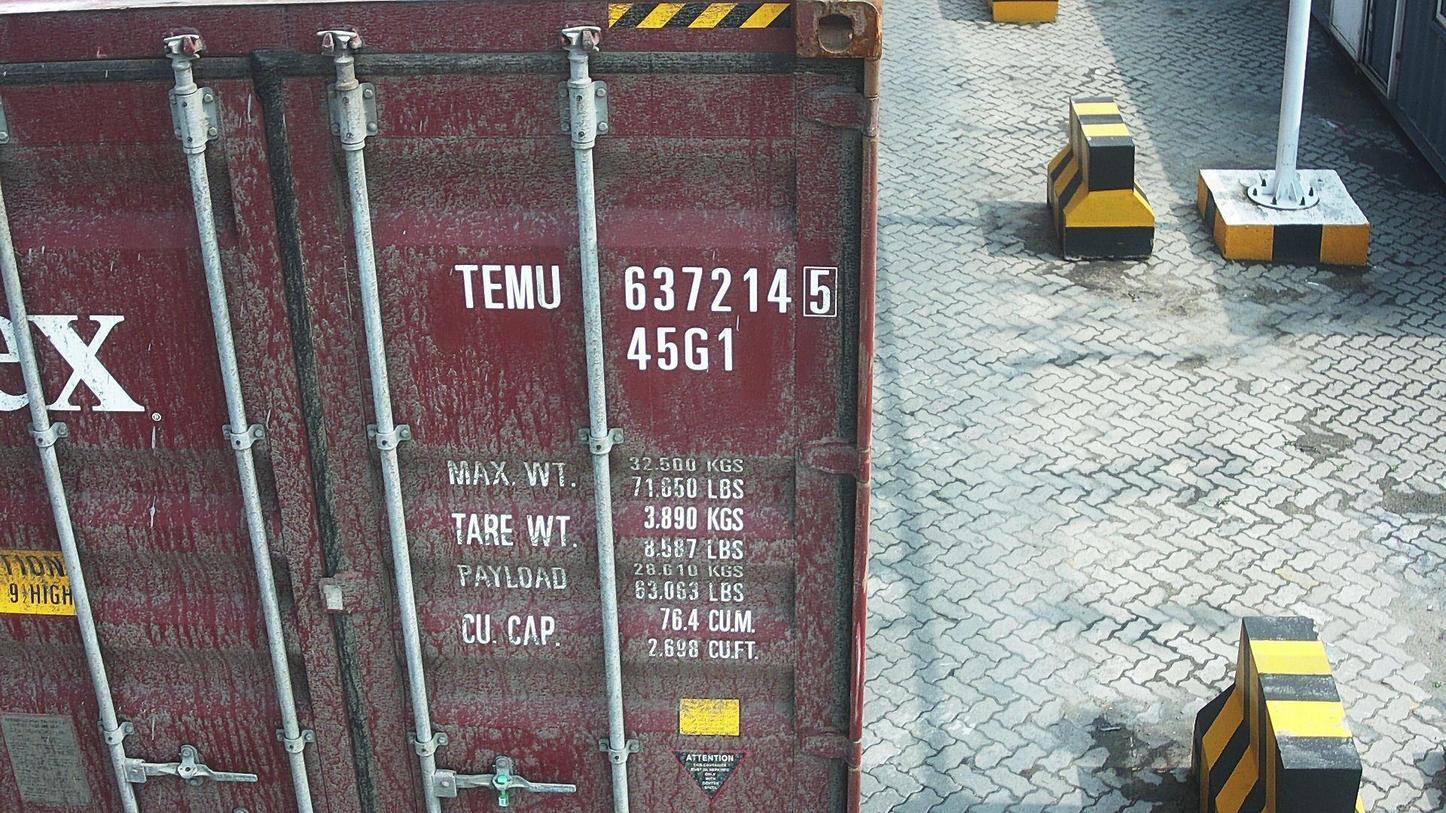container-numbers: (453, 260, 843, 319), (626, 323, 740, 375)
